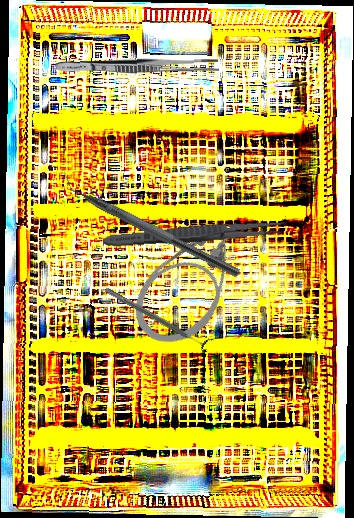Cannula: (117, 205, 272, 360)
Chopper: (51, 166, 248, 279)
Dressing Forceps: (102, 215, 289, 252), (55, 56, 219, 75)
Fixation Ring: (101, 281, 215, 355)
